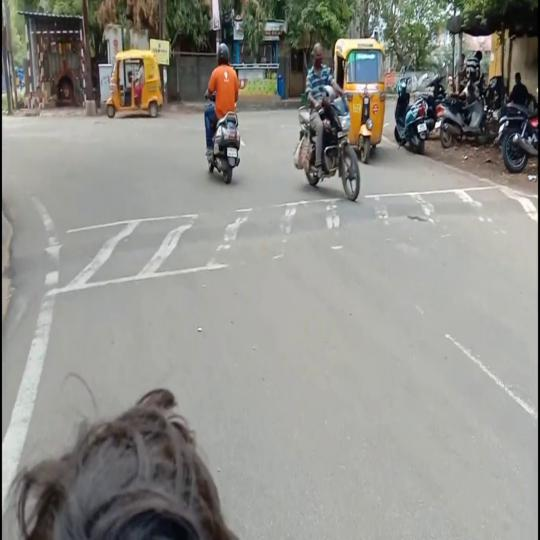Speed Bump: (12, 201, 368, 282), (368, 194, 538, 228)
